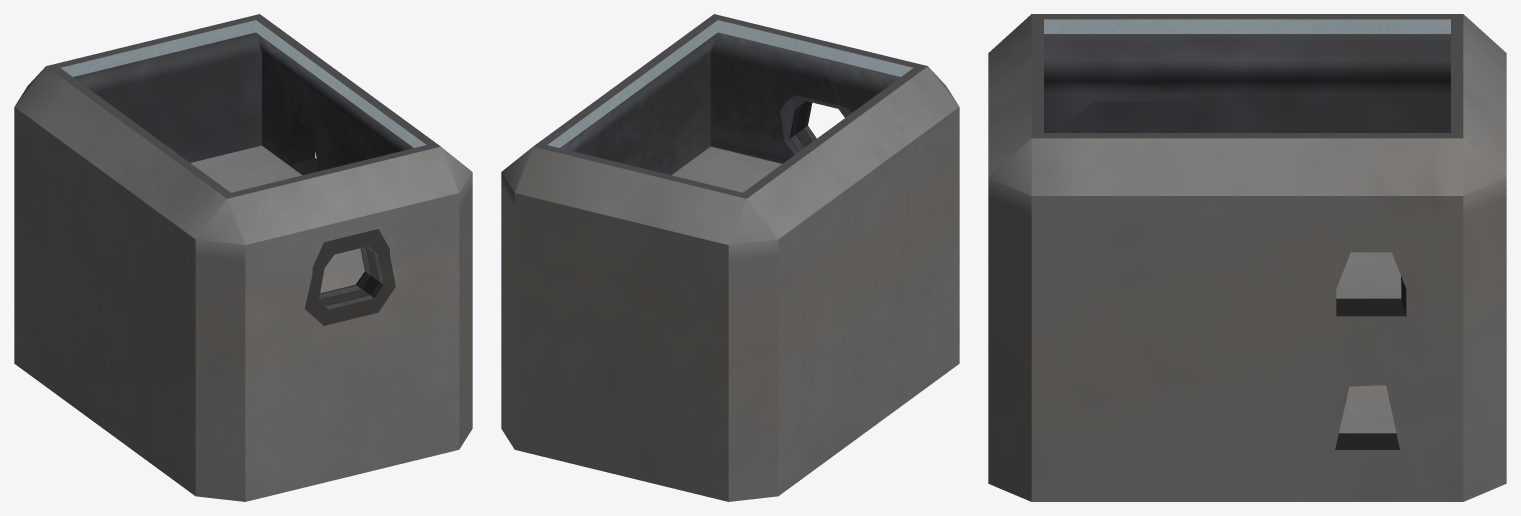
Rendered from Green_house_FIX_2.fbx.
3 renders of one model, left to right at view 1: azimuth 30°, elevation 25°; view 2: azimuth 150°, elevation 25°; view 3: azimuth 270°, elevation 25°, orthographic. The views are drawn at different scales.
Visible parts, largest first — view 1: Green_House; view 2: Green_House; view 3: Green_House.
Part boxes in pixels (x1,y1,x2,y2): Green_House: (14,14,472,501); Green_House: (501,14,959,501); Green_House: (988,14,1506,501).
Size of the model in its own units: 187 by 187 by 255.
